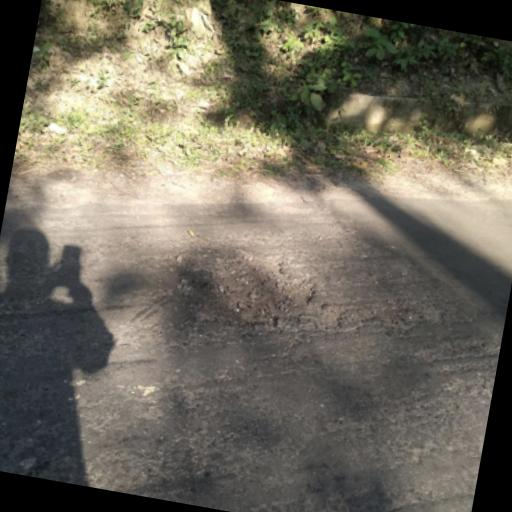pothole: (190, 238, 360, 352)
